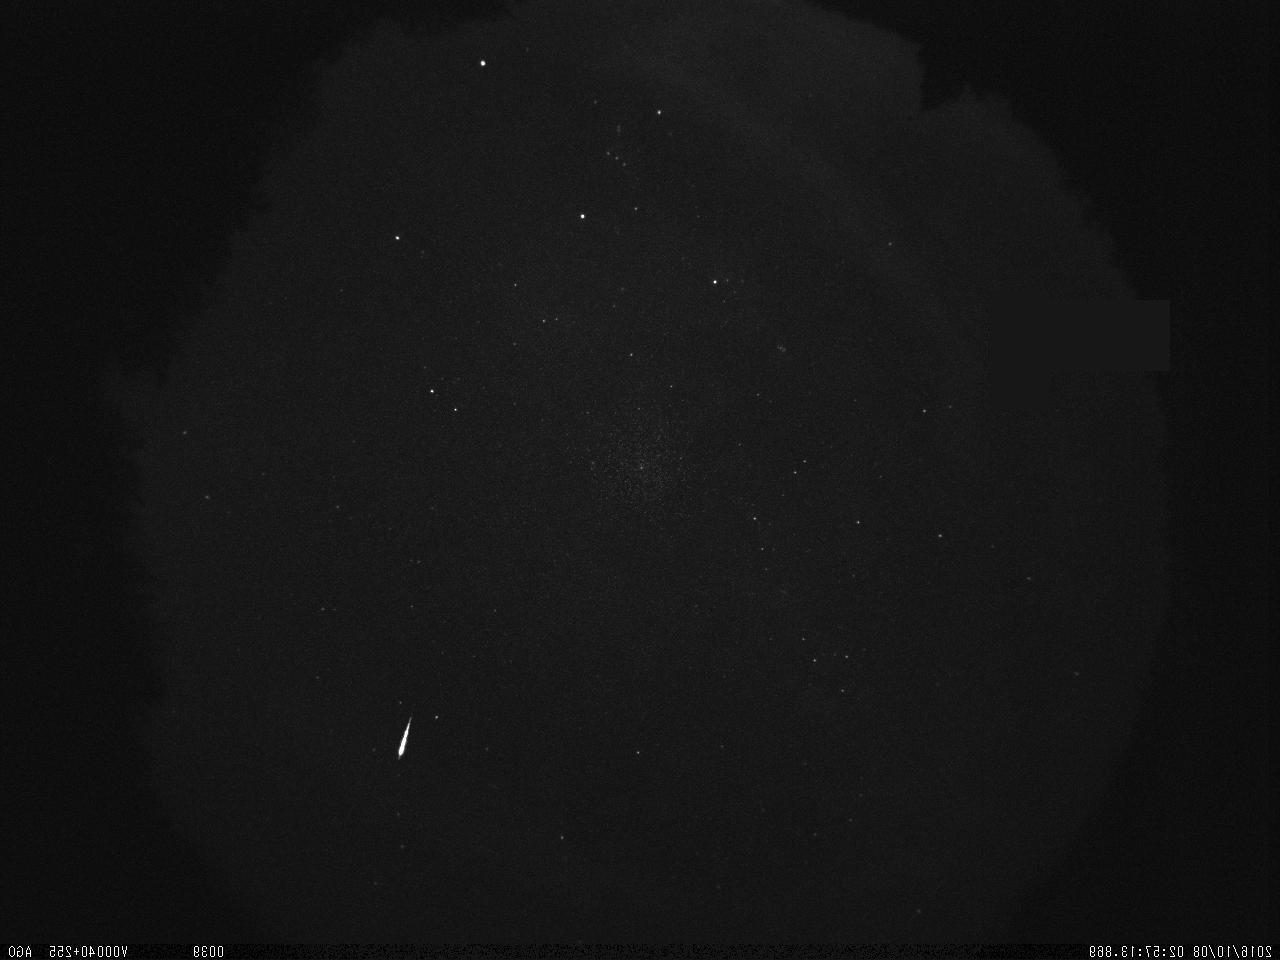meteor: (338, 702, 447, 787)
